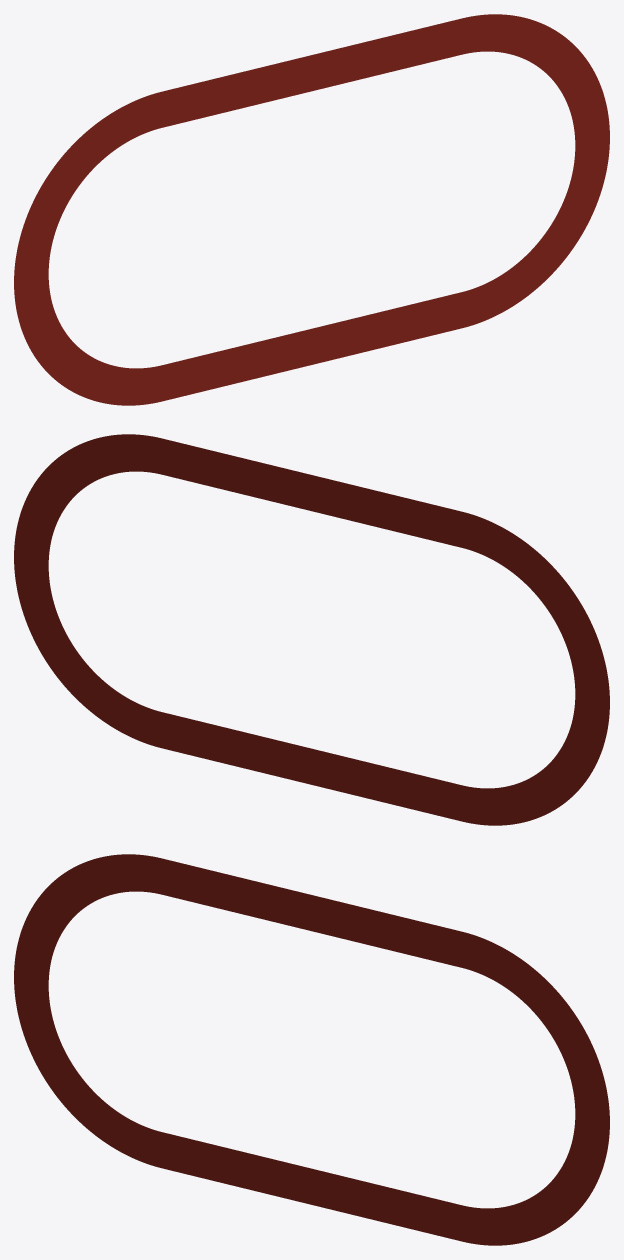
Rendered from running_track_surface.obj.
3 views of the same model, one above another, from view 1: azimuth 30°, elevation 25°; view 2: azimuth 150°, elevation 25°; view 3: azimuth 330°, elevation 25° (orthographic).
Visible parts, largest first — view 1: drone_cju_track_running_track_continuous_surface; view 2: drone_cju_track_running_track_continuous_surface; view 3: drone_cju_track_running_track_continuous_surface.
Boxes of the visible parts, left/top/right/bottom form: drone_cju_track_running_track_continuous_surface: left=14, top=14, right=609, bottom=405; drone_cju_track_running_track_continuous_surface: left=14, top=434, right=609, bottom=825; drone_cju_track_running_track_continuous_surface: left=14, top=854, right=609, bottom=1245.
Bounding box in the file's own units: 168 × 83.36 × 0.
